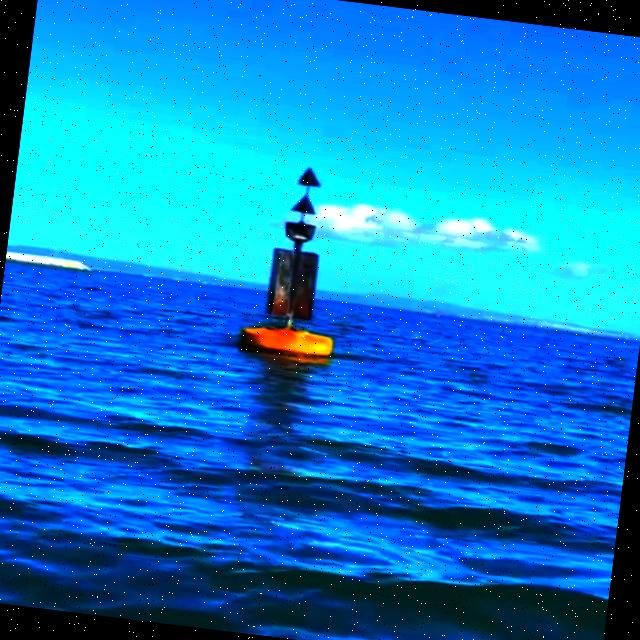marque: (242, 157, 360, 358)
